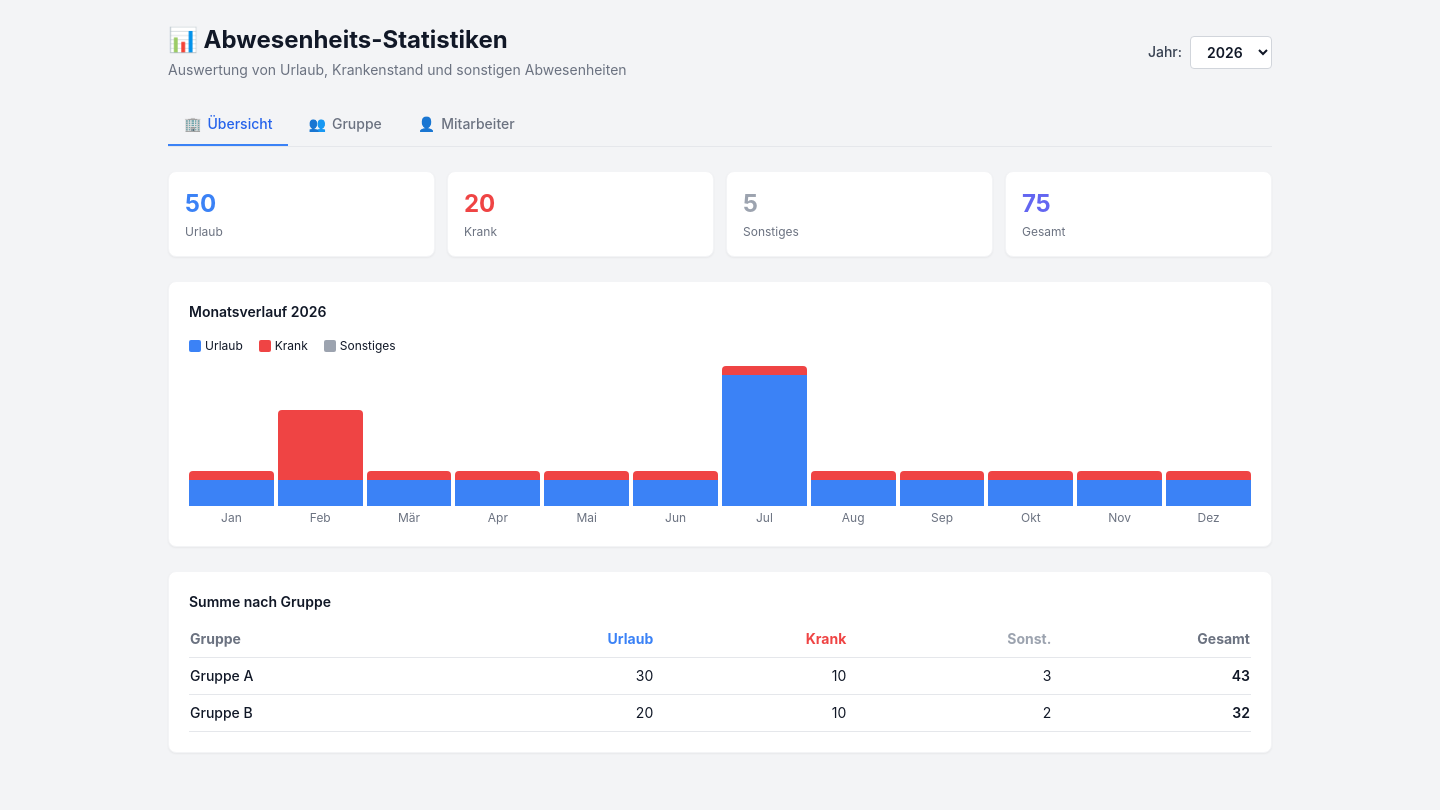
Test case: AbsenceStats › group tab shows employee table after loading
The image size is (1440, 810).
Click the tab "👥 Gruppe" at (345, 125), box [292,104,398,146]
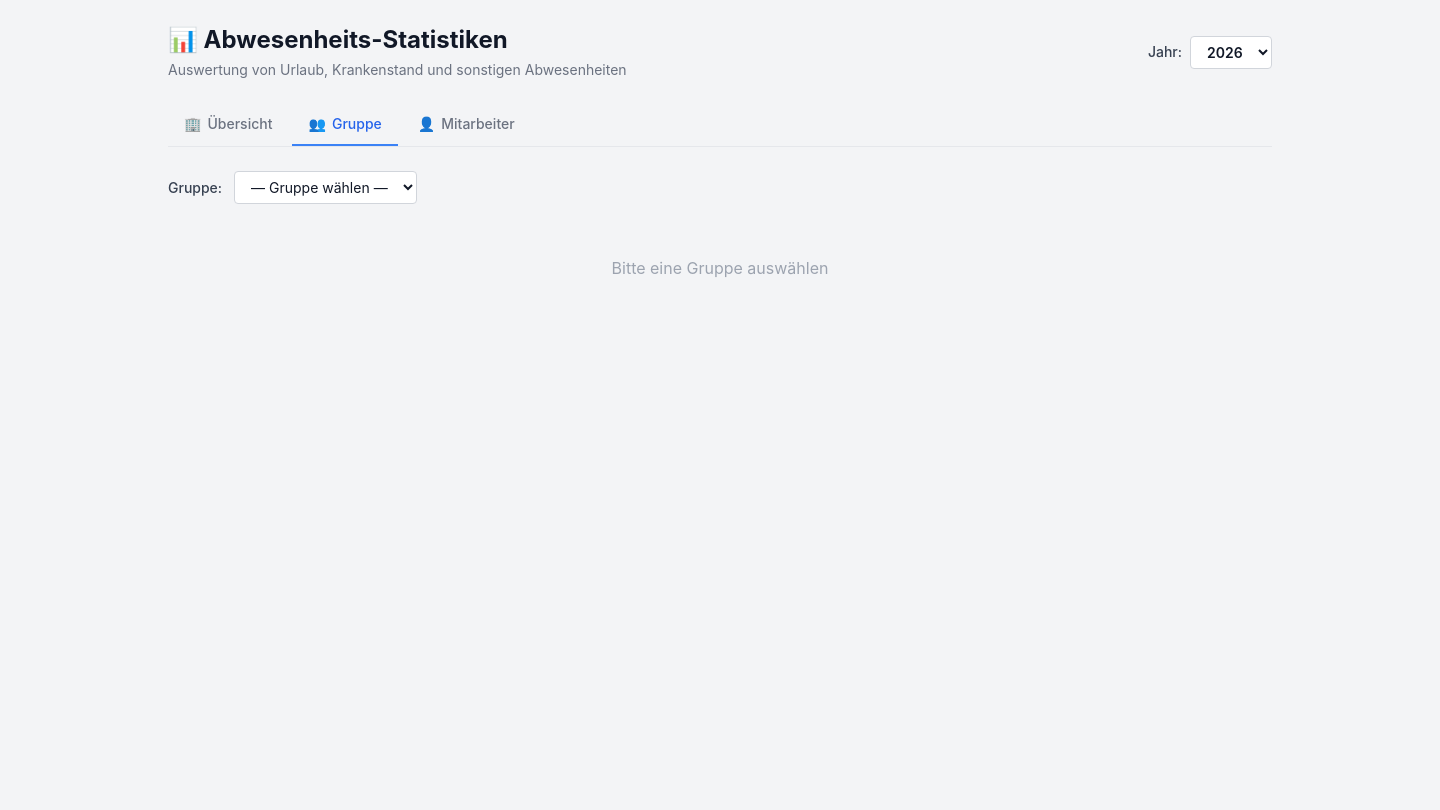
Select "Gruppe A" in the 2nd dropdown at (326, 188), box [234,171,417,204]
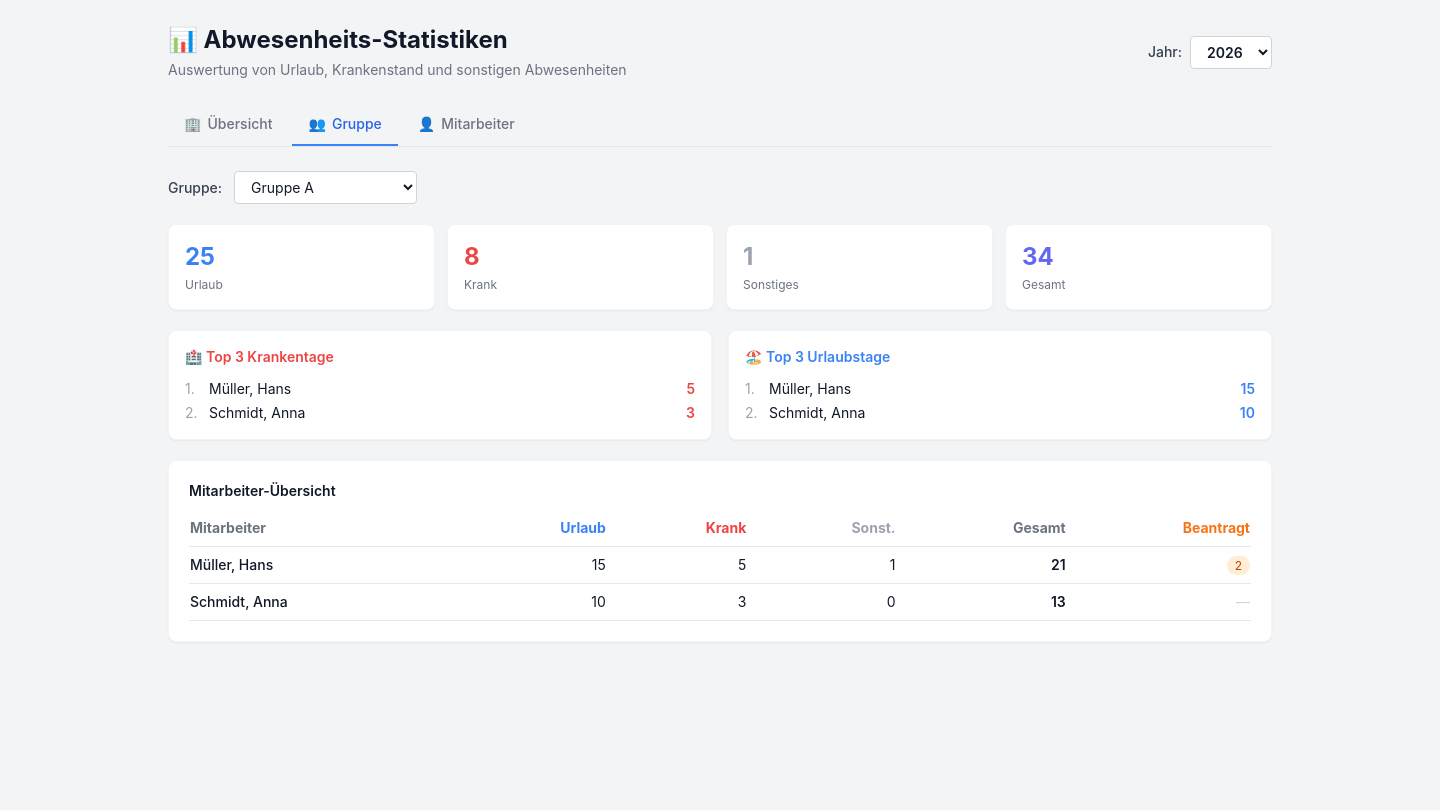
Now the text "Müller, Hans" below "🏥 Top 3 Krankentage" is shown, box [209,380,291,397]
